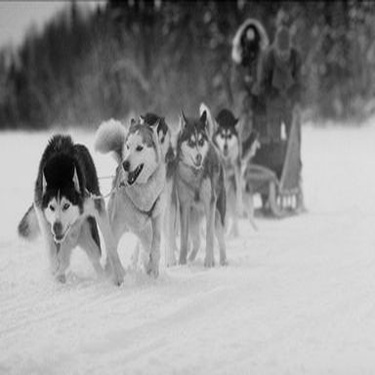dog: (8, 113, 110, 300), (79, 101, 169, 288), (141, 101, 231, 284), (187, 91, 256, 246), (111, 96, 188, 229)
